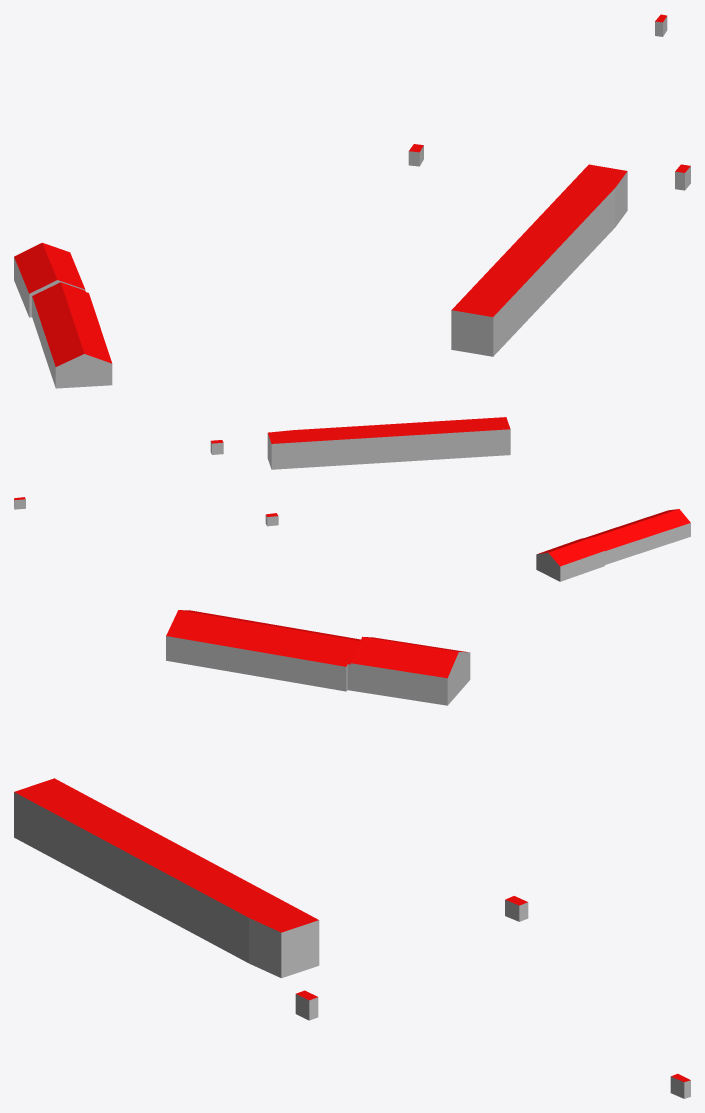
The picture shows the model from 3 angles, top to bottom: view 1: azimuth 30°, elevation 25°; view 2: azimuth 150°, elevation 25°; view 3: azimuth 270°, elevation 25°; orthographic projection. The views are drawn at different scales.
Bounding box in the file's own units: 148 × 6.78 × 91.06.
